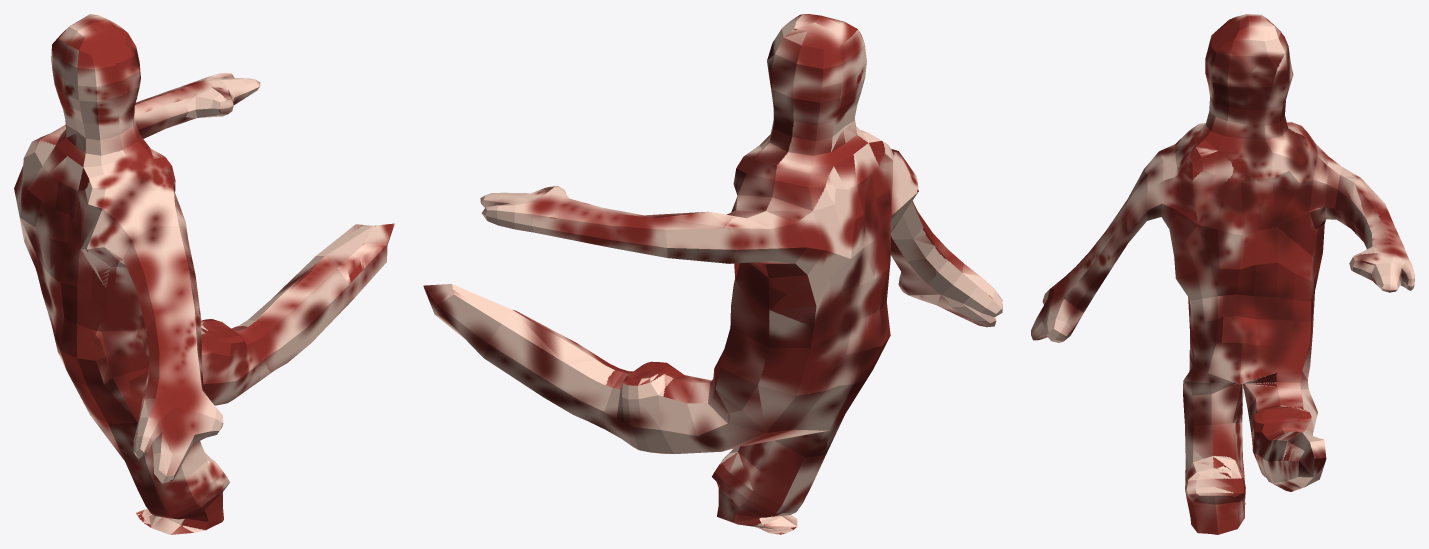
The model's file is MRTVOLA.glb.
The picture shows the model from 3 angles, left to right: view 1: azimuth 30°, elevation 25°; view 2: azimuth 150°, elevation 25°; view 3: azimuth 270°, elevation 25°; orthographic projection. The views are drawn at different scales.
Parts seen in each view (by area): view 1: Krychle; view 2: Krychle; view 3: Krychle.
Boxes of the visible parts, left/top/right/bottom form: Krychle: left=14, top=14, right=394, bottom=534; Krychle: left=423, top=14, right=1002, bottom=534; Krychle: left=1031, top=14, right=1414, bottom=534.
Bounding box in the file's own units: 3.01 × 3.62 × 2.68.
Materials: 1 (1 with a texture image).
